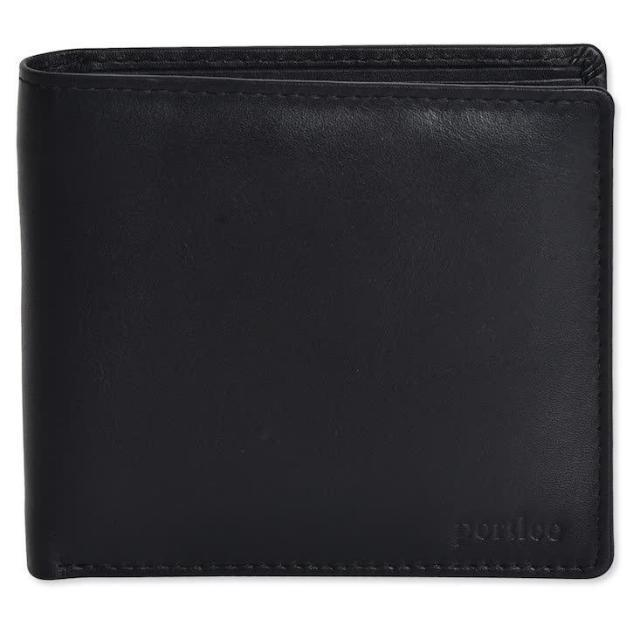wallet: (22, 45, 612, 575)
